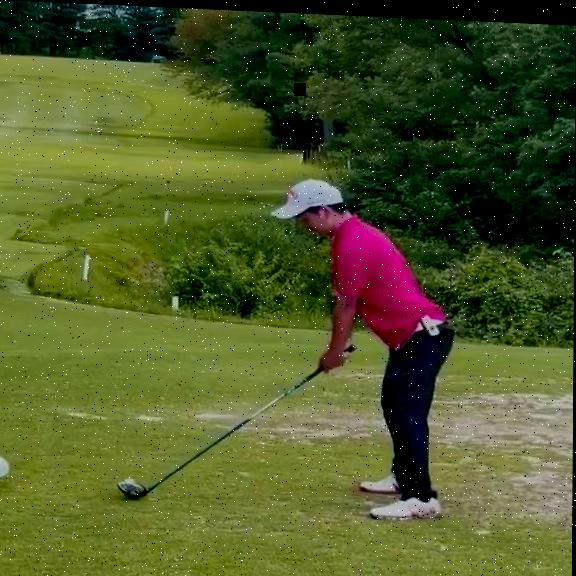ClubHead: (118, 480, 147, 497)
GolfBall: (0, 455, 11, 477), (126, 477, 136, 482)
